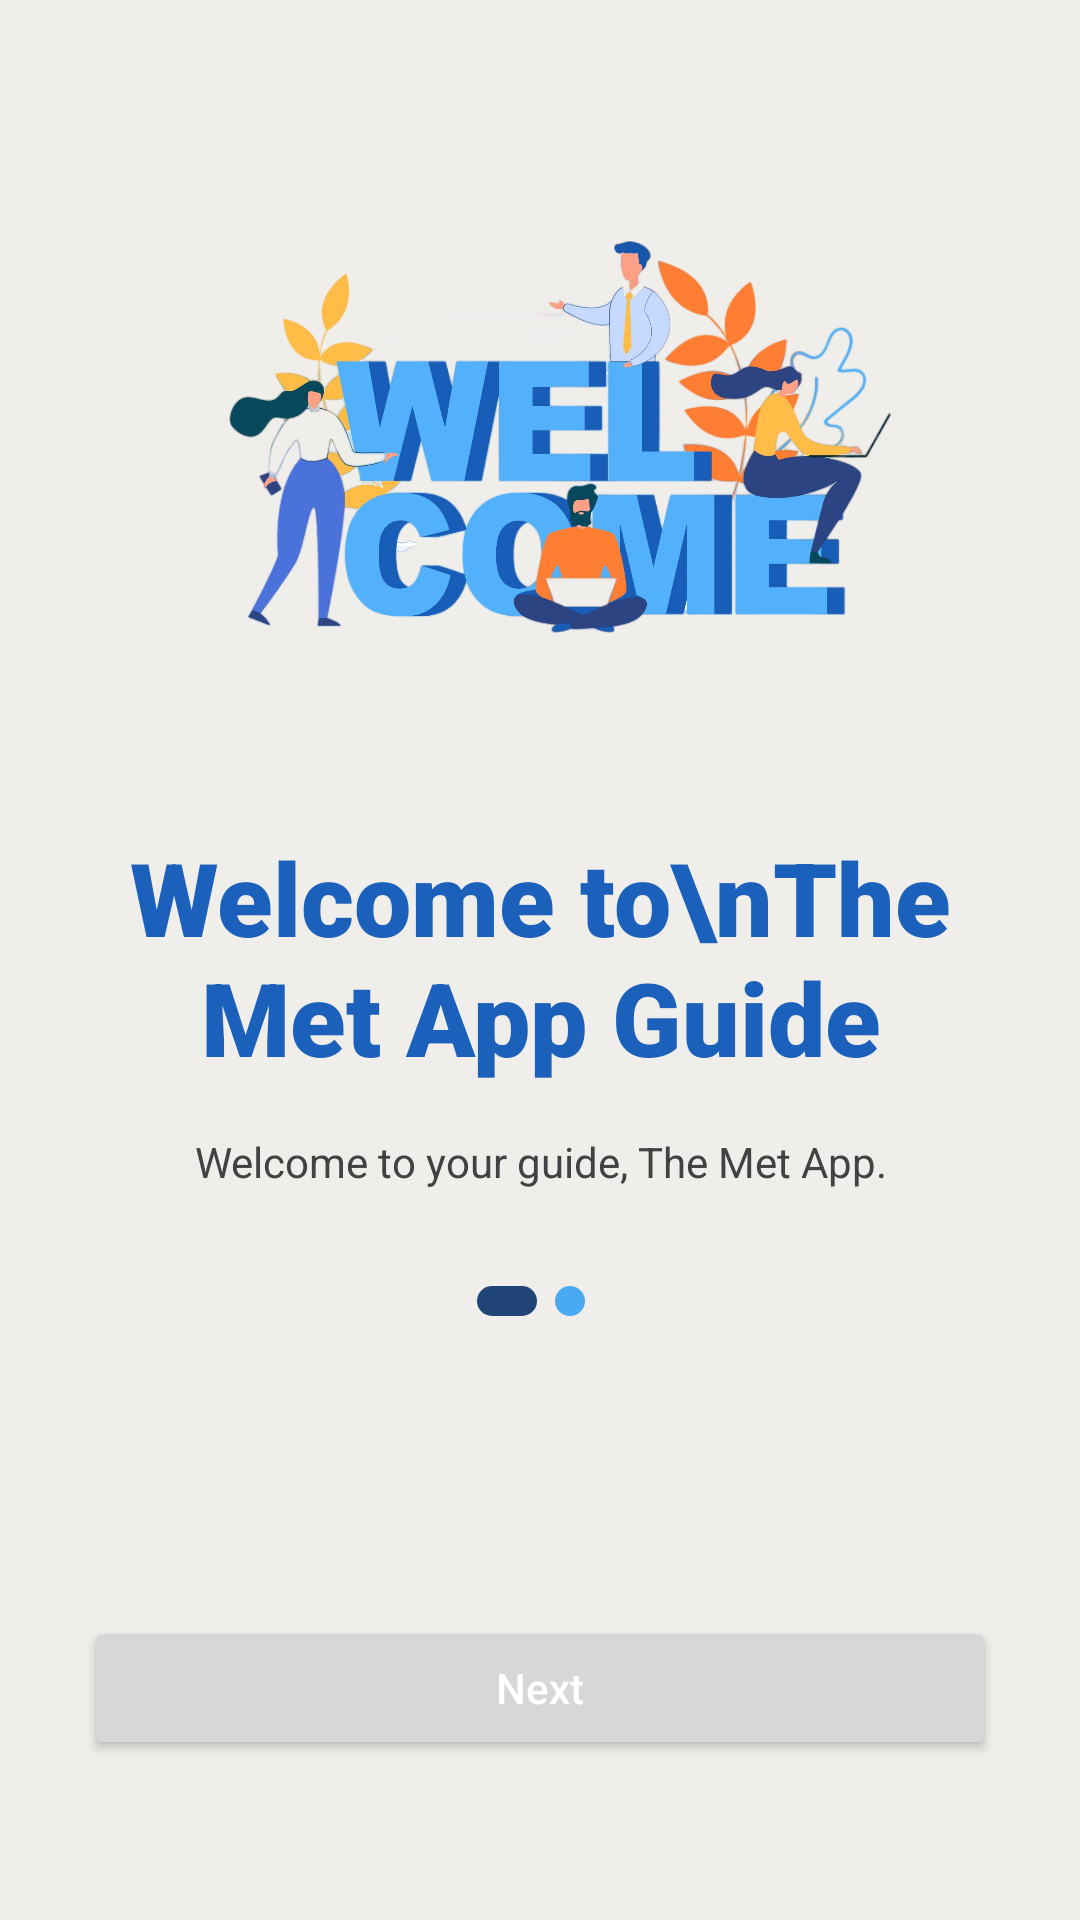

Icon bounding boxes for this 1080 x 1920 phone screenshot, format (x1, y1, x2, y2):
dot indicator: (477, 1286, 537, 1316), (555, 1286, 585, 1316)
